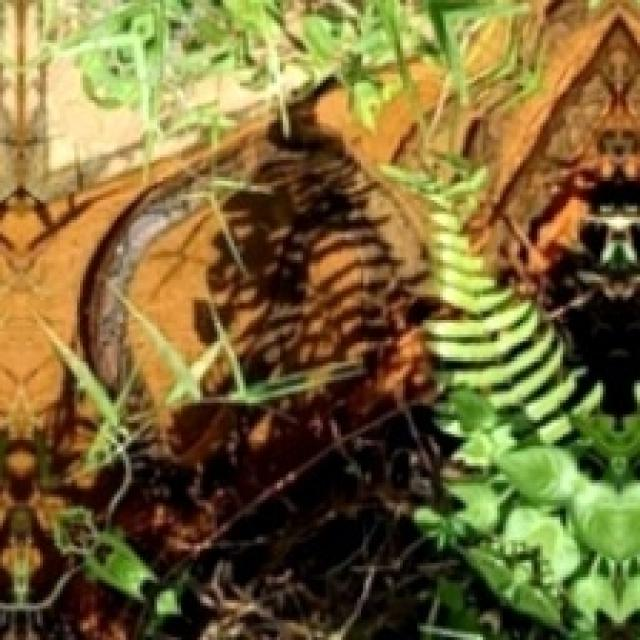reticulated python: (80, 108, 439, 567)
